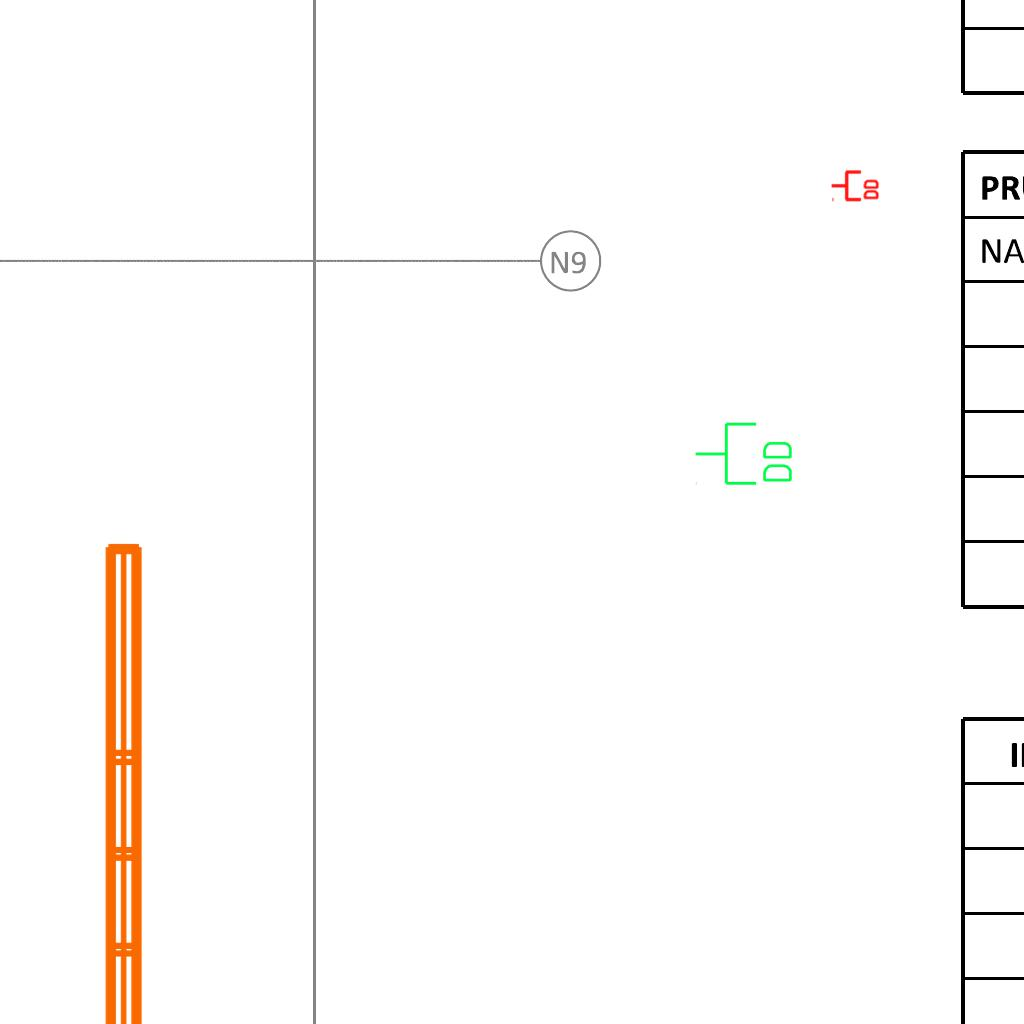Ambulanz_Pendelleuchte_LED: (93, 533, 205, 1024)
Datenanschluss_zweifach: (693, 420, 796, 489), (830, 168, 881, 202)
